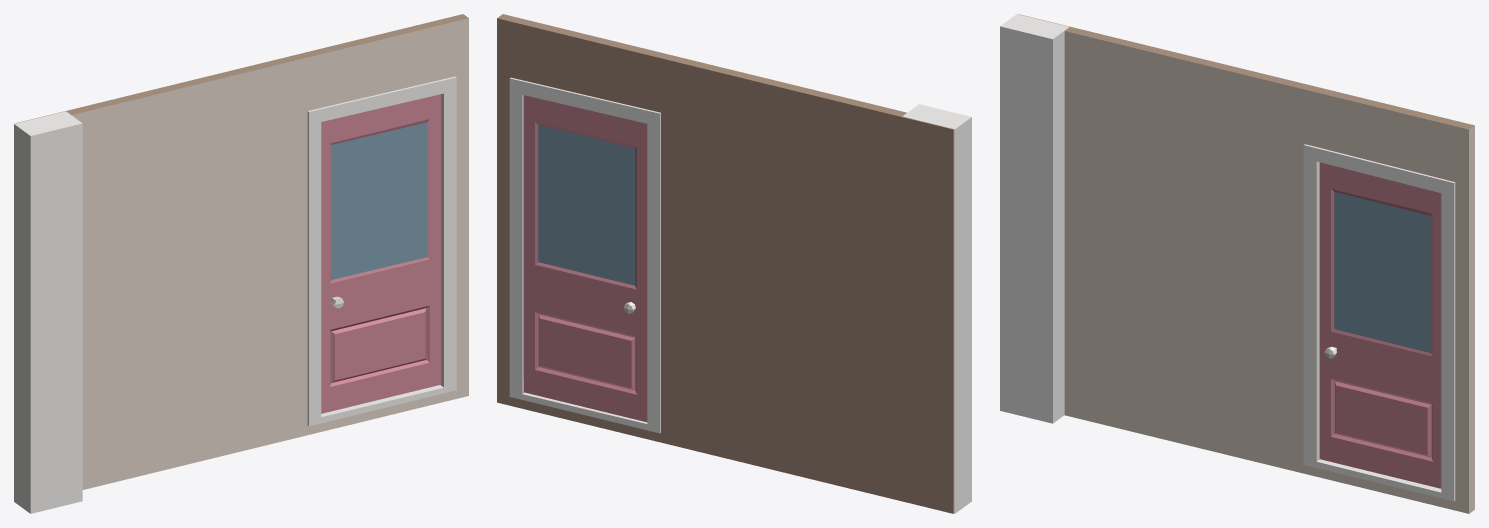
The model's file is Wall_14.fbx.
3 renders of one model, left to right at view 1: azimuth 30°, elevation 25°; view 2: azimuth 150°, elevation 25°; view 3: azimuth 330°, elevation 25°, orthographic.
Visible parts, largest first — view 1: Wall_14; view 2: Wall_14; view 3: Wall_14.
Boxes of the visible parts, <box> form: Wall_14: <box>14,14,468,513</box>; Wall_14: <box>497,14,971,513</box>; Wall_14: <box>1000,14,1474,513</box>.
Bounding box in the file's own units: 501 × 42.55 × 402.
